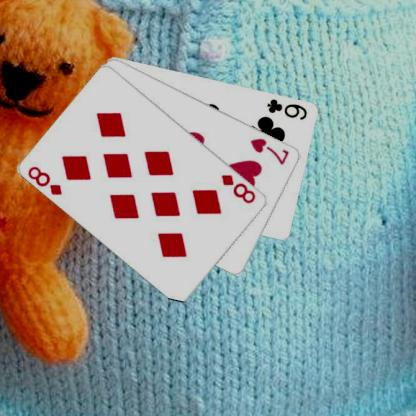6C: (264, 96, 309, 121)
7H: (248, 136, 290, 166)
8D: (218, 171, 258, 205), (25, 163, 64, 197)
